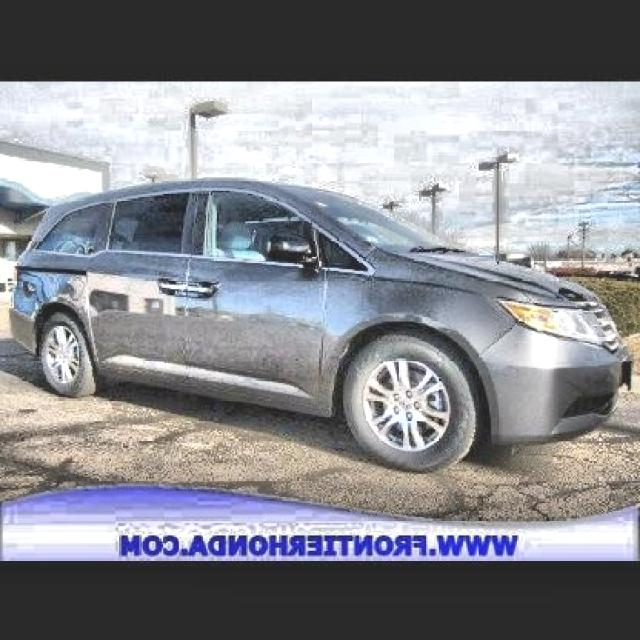black: (0, 168, 619, 420)
